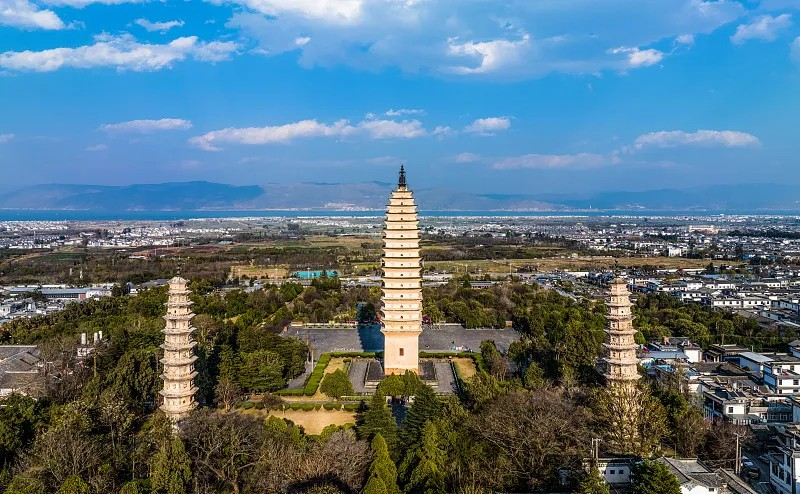ThreePagoda: (379, 163, 423, 374)
